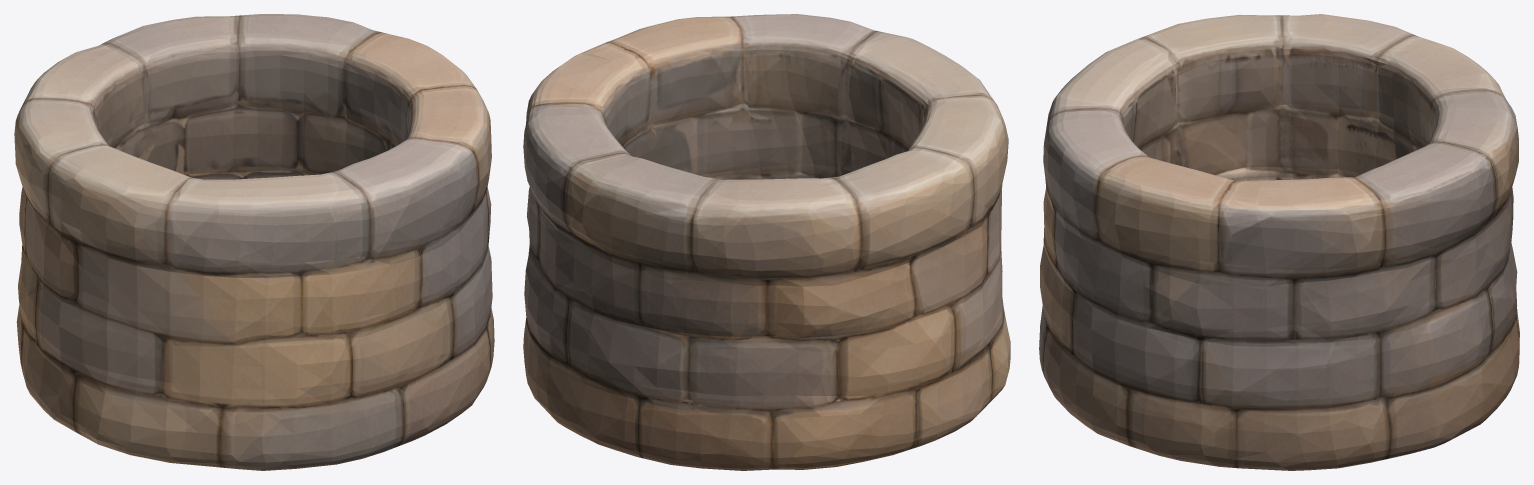
Rendered from StoneWell_Low5k.fbx.
3 views of the same model, side by side, from view 1: azimuth 30°, elevation 25°; view 2: azimuth 150°, elevation 25°; view 3: azimuth 270°, elevation 25° (orthographic).
Parts seen in each view (by area): view 1: StoneWell_Low_Low_Low; view 2: StoneWell_Low_Low_Low; view 3: StoneWell_Low_Low_Low.
Boxes of the visible parts, <box> form: StoneWell_Low_Low_Low: <box>14,14,494,470</box>; StoneWell_Low_Low_Low: <box>523,14,1010,470</box>; StoneWell_Low_Low_Low: <box>1039,14,1519,470</box>.
Bounding box in the file's own units: 98.74 × 61.77 × 99.38.
1 material, 1 textured.
